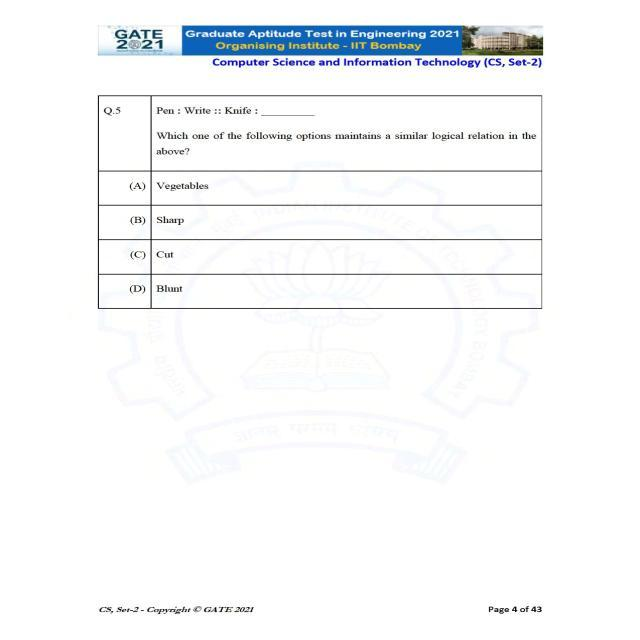Answer_Block: (62, 174, 582, 356)
Question_Answer_Block: (62, 73, 582, 356)
Question_Block: (62, 74, 582, 172)
Question_Paper_Area: (62, 73, 582, 356)
